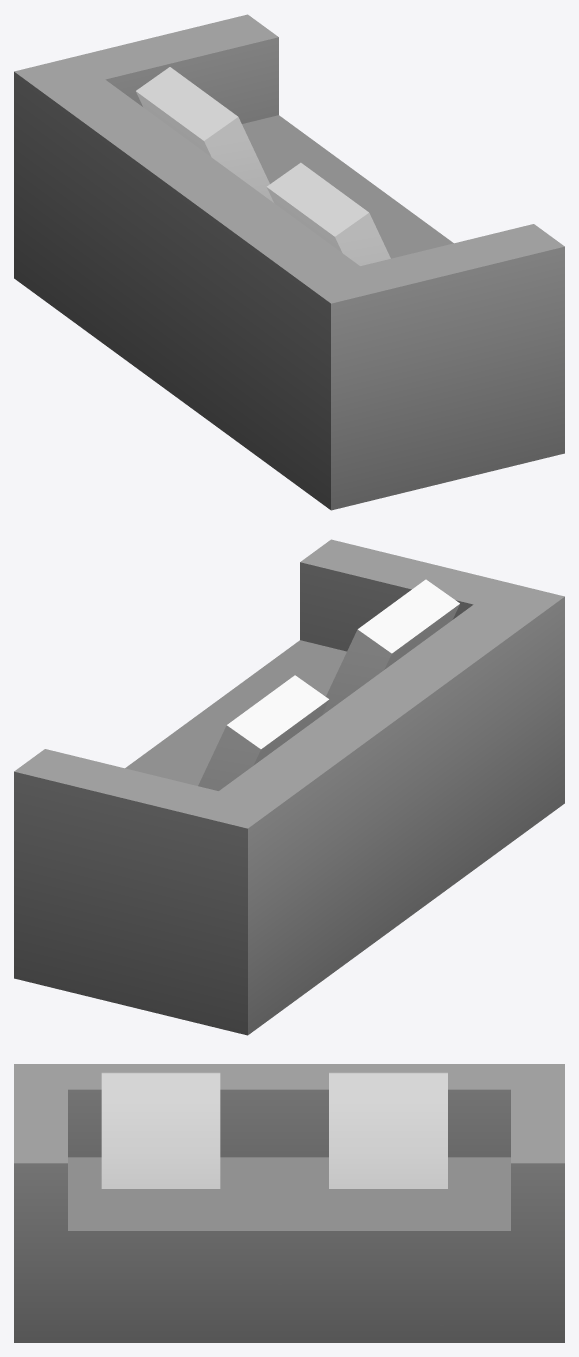
Rendered from sofa.fbx.
3 renders of one model, top to bottom at view 1: azimuth 30°, elevation 25°; view 2: azimuth 150°, elevation 25°; view 3: azimuth 270°, elevation 25°, orthographic. The views are drawn at different scales.
Visible parts, largest first — view 1: sofa; view 2: sofa; view 3: sofa.
Boxes of the visible parts, bbox=[...] form: sofa: bbox=[14, 14, 564, 510]; sofa: bbox=[14, 539, 564, 1035]; sofa: bbox=[14, 1064, 564, 1342].
Size of the model in its own units: 88.26 by 86.34 by 207.
1 material, 1 textured.
